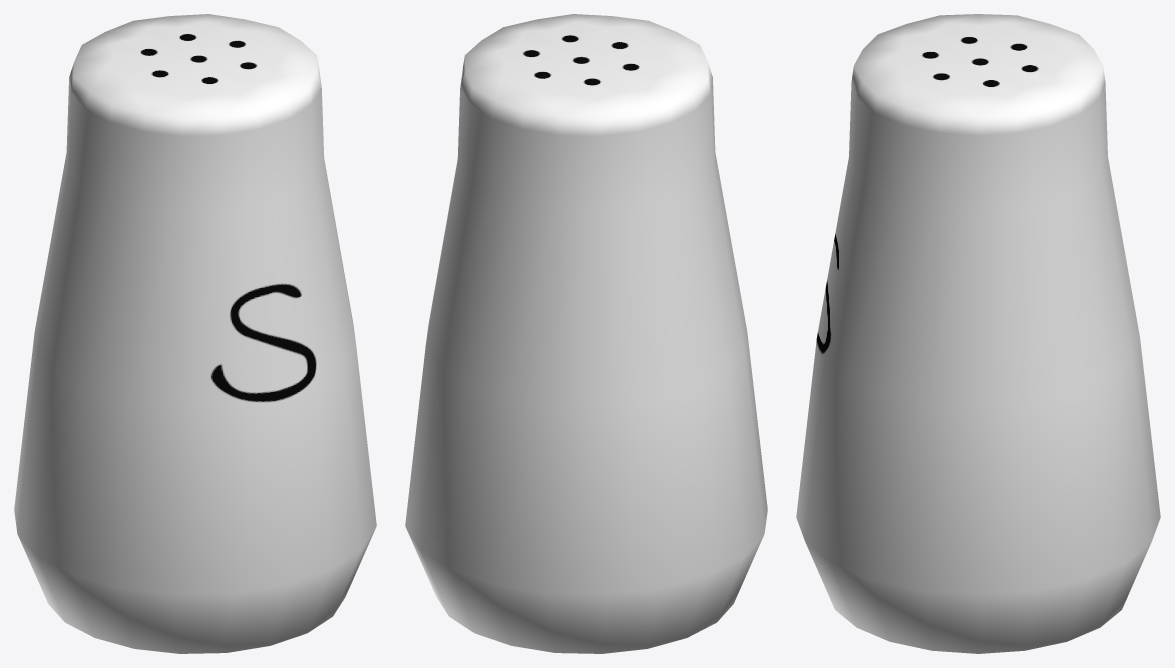
The model's file is Salt.fbx.
The picture shows the model from 3 angles, left to right: view 1: azimuth 30°, elevation 25°; view 2: azimuth 150°, elevation 25°; view 3: azimuth 270°, elevation 25°; orthographic projection.
Parts seen in each view (by area): view 1: Salt; view 2: Salt; view 3: Salt.
Part boxes in pixels (x1,y1,x2,y2): Salt: (14,14,376,653); Salt: (405,14,767,653); Salt: (796,14,1160,653).
Bounding box in the file's own units: 3.86 × 6.41 × 3.85.
